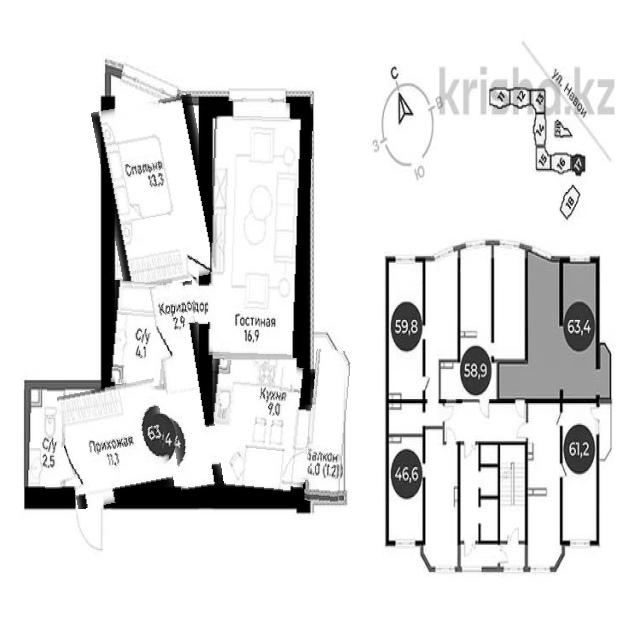balcony: (307, 349, 348, 503)
bathroom: (105, 281, 168, 385), (27, 384, 65, 499)
hallway: (61, 382, 170, 505), (157, 281, 216, 494)
kitchen: (203, 360, 312, 497)
living_room: (209, 102, 311, 358), (99, 97, 217, 286)
